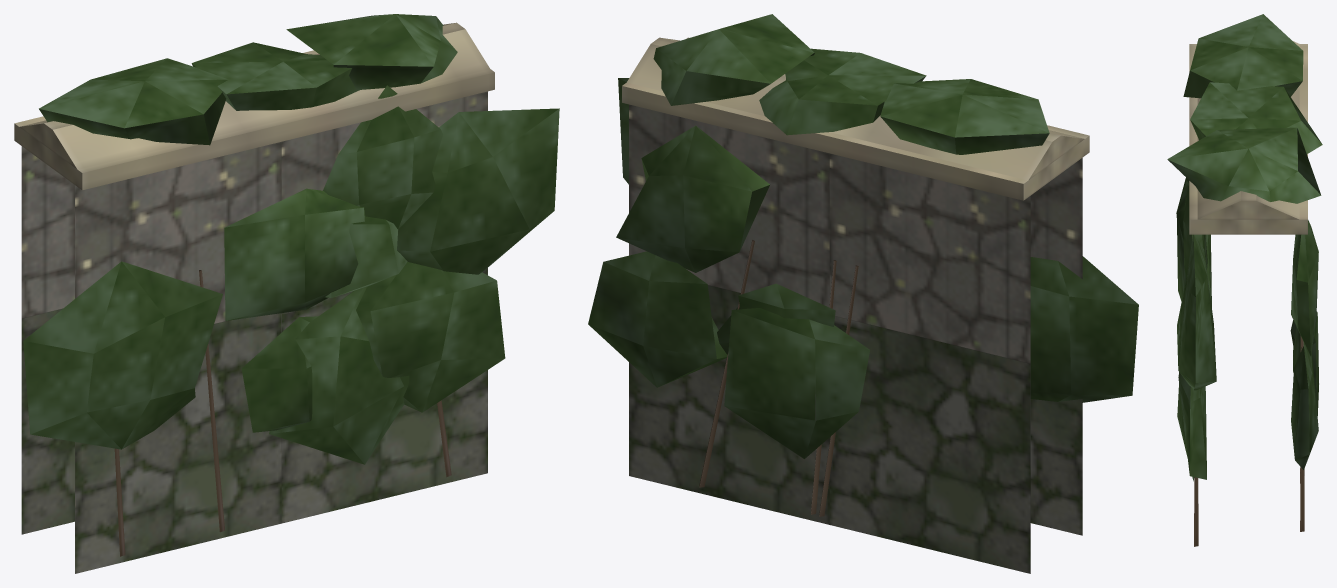
The model's file is wall_stone_ivy.obj.
3 renders of one model, left to right at view 1: azimuth 30°, elevation 25°; view 2: azimuth 150°, elevation 25°; view 3: azimuth 270°, elevation 25°, orthographic. The views are drawn at different scales.
Parts seen in each view (by area): view 1: wall_stone_ivy; view 2: wall_stone_ivy; view 3: wall_stone_ivy.
Boxes of the visible parts, x1,y1,x2,y2 form: wall_stone_ivy: (14,14,559,573); wall_stone_ivy: (588,14,1138,573); wall_stone_ivy: (1167,14,1322,546).
Bounding box in the file's own units: 2.6 × 2.11 × 0.7482.
Materials: 1 (1 with a texture image).
